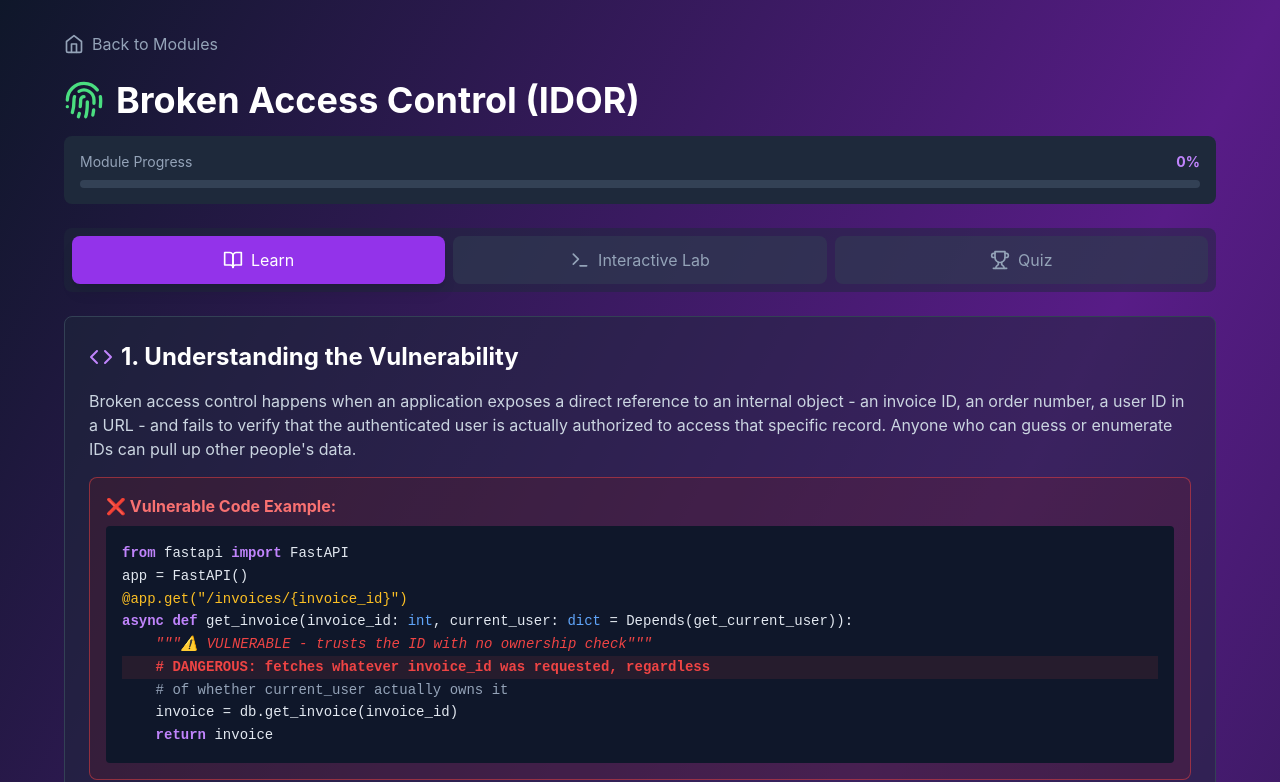
BrokenAccessControlModule IDOR lab › flags access to someone else's invoice as IDOR and leaks their data
Click the button "Interactive Lab" at (640, 260), box [453,236,827,284]
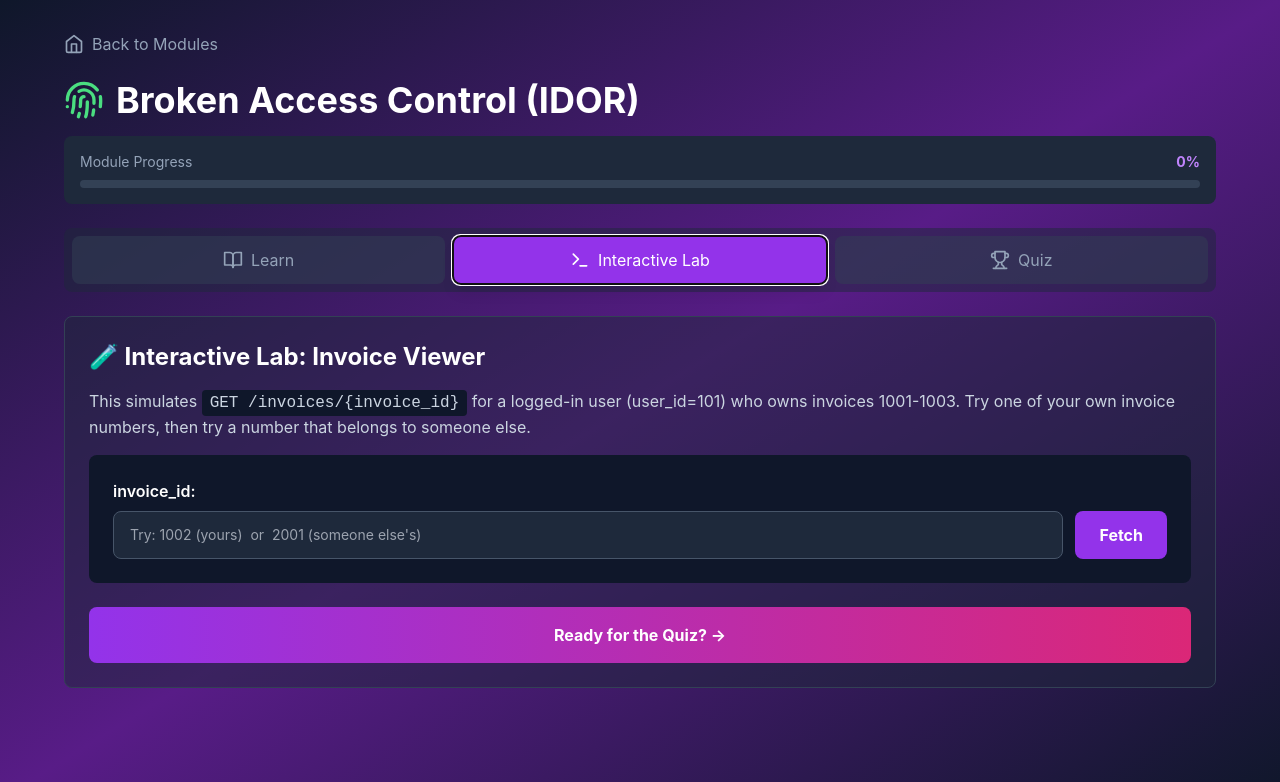
Type "2001" into the field with placeholder "Try: 1002 (yours) or 2001 (someone else's)" at (588, 535), box [113,511,1064,559]
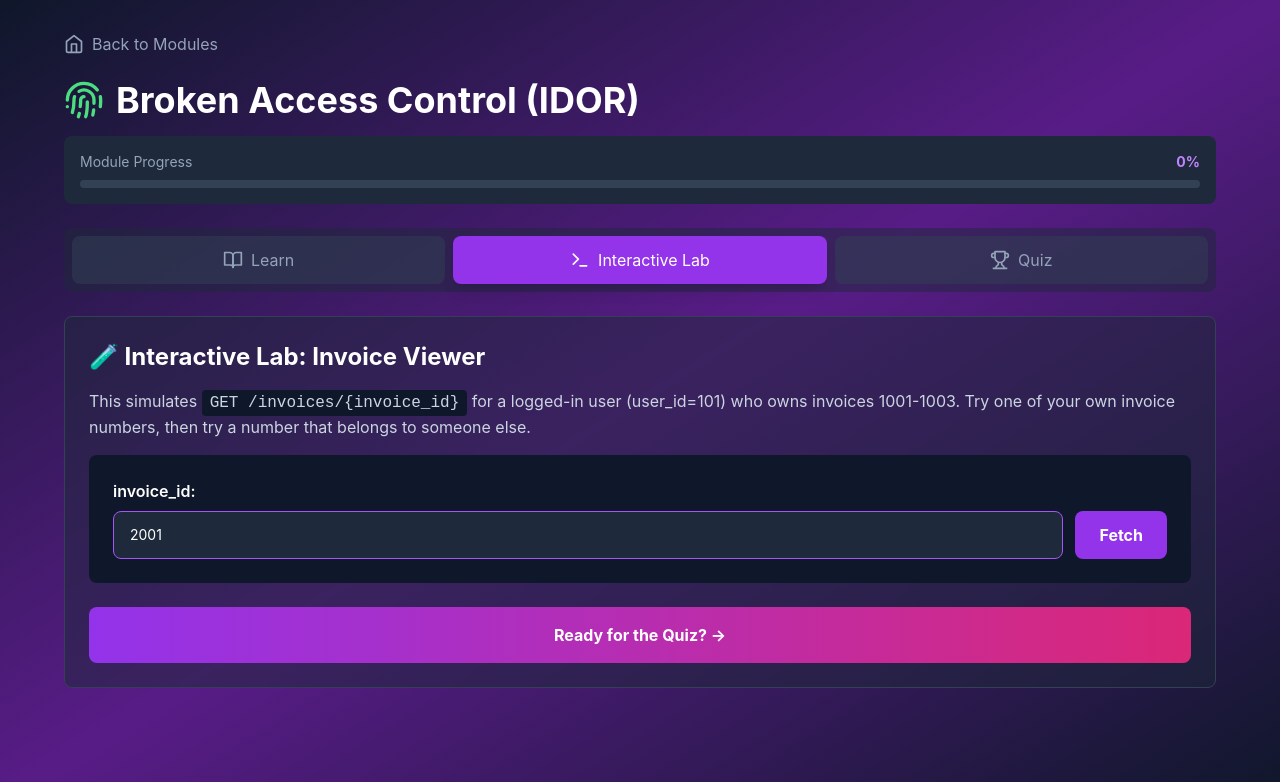
Click the button "Fetch" at (1121, 535), box [1076,511,1167,559]
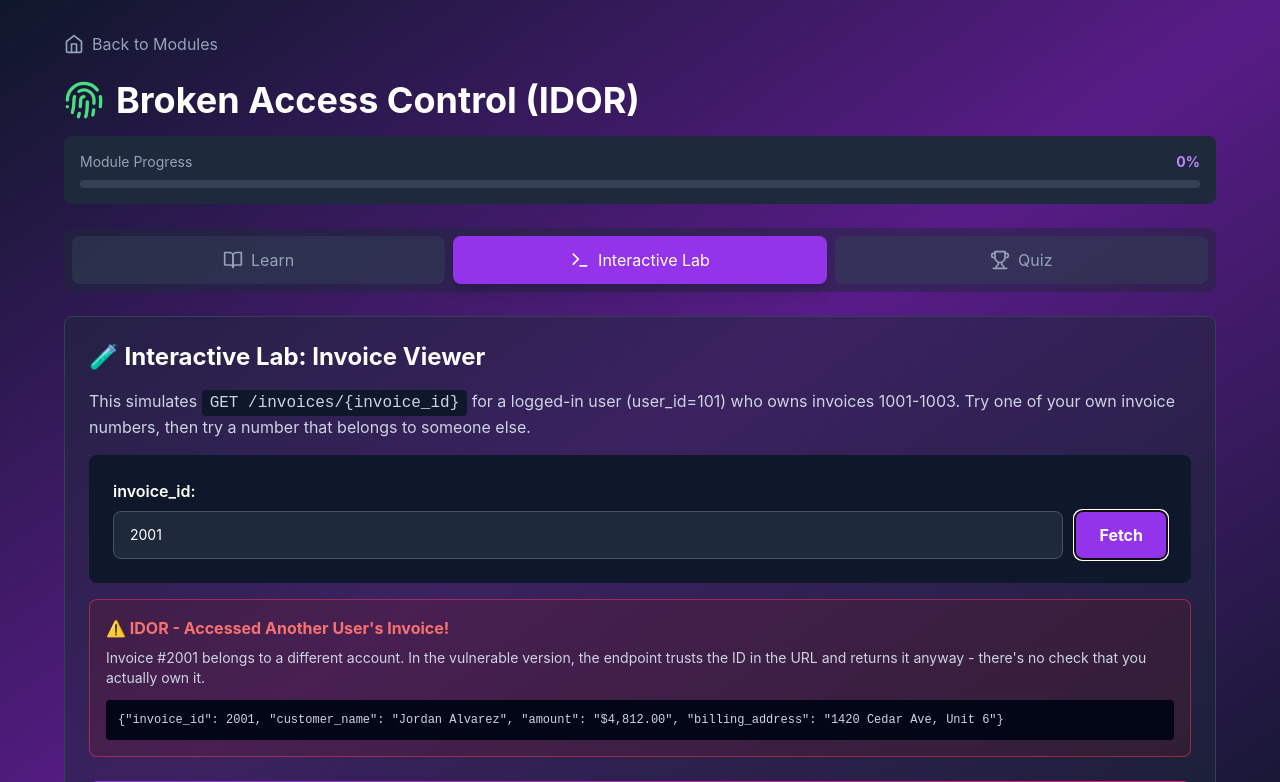
Check: the text "⚠️ IDOR - Accessed Another User's Invoice!" is shown, box [106,618,449,638]
Check: the text "Jordan Alvarez" is shown, box [118,713,1004,727]
